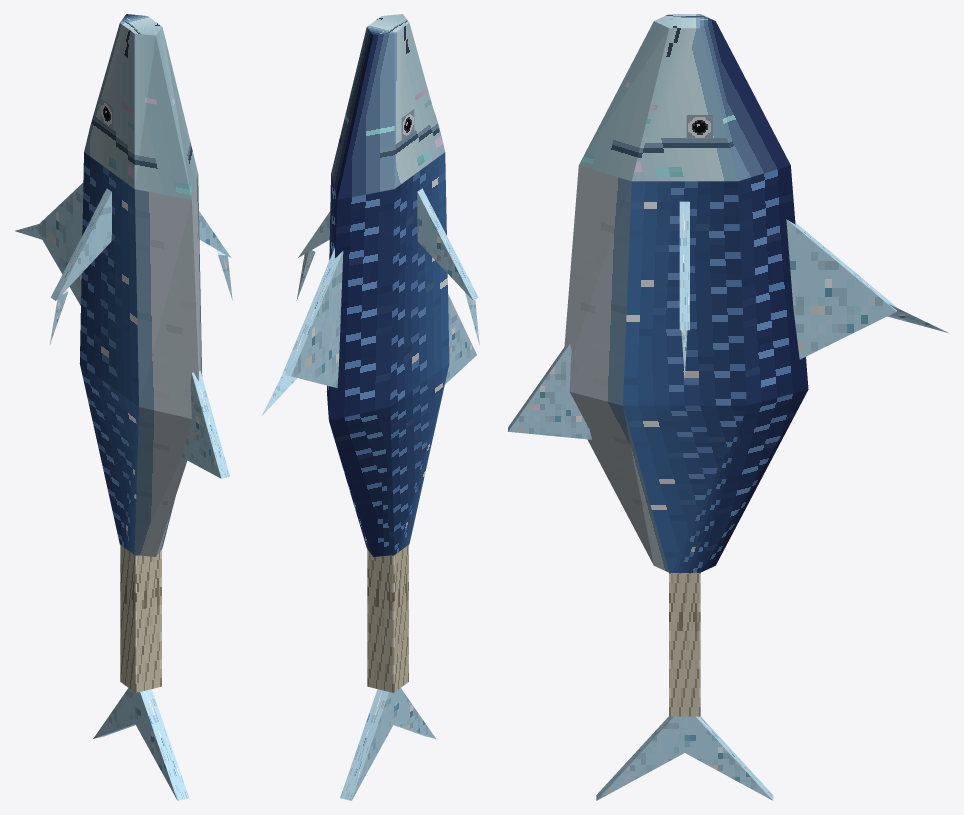
The model's file is frozen_tuna.glb.
The picture shows the model from 3 angles, left to right: view 1: azimuth 30°, elevation 25°; view 2: azimuth 150°, elevation 25°; view 3: azimuth 270°, elevation 25°; orthographic projection. The views are drawn at different scales.
Visible parts, largest first — view 1: Body, Ice; view 2: Body, Ice; view 3: Body, Ice.
Boxes of the visible parts, x1,y1,x2,y2 form: Body: (79,14,202,692); Ice: (15,183,232,800); Body: (326,14,449,692); Ice: (262,188,479,800); Body: (564,14,808,716); Ice: (508,201,948,800).
Bounding box in the file's own units: 0.25 × 0.97 × 0.5.
Materials: 1 (1 with a texture image).
